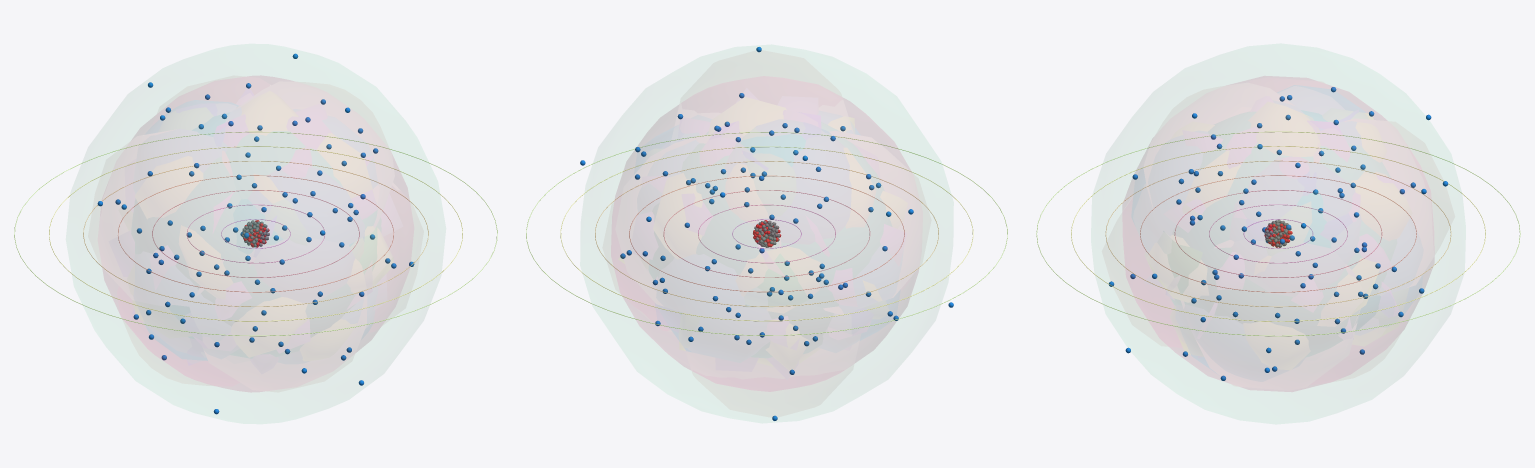
3 views of the same model, side by side, from view 1: azimuth 30°, elevation 25°; view 2: azimuth 150°, elevation 25°; view 3: azimuth 270°, elevation 25° (orthographic).
Visible parts, largest first — view 1: Orbital_5s_0, Nivel_n7, Nivel_n6, Nivel_n5, Nivel_n4, Nivel_n3; view 2: Orbital_5s_0, Nivel_n7, Nivel_n6, Nivel_n5, Nivel_n4, Nivel_n3; view 3: Orbital_5s_0, Nivel_n7, Nivel_n6, Nivel_n5, Nivel_n4, Nivel_n3.
Part boxes in pixels (<box>): Orbital_5s_0: <box>103,76,413,391</box>; Nivel_n7: <box>14,131,497,336</box>; Nivel_n6: <box>49,146,462,321</box>; Nivel_n5: <box>83,161,428,306</box>; Nivel_n4: <box>118,175,393,292</box>; Nivel_n3: <box>152,190,359,277</box>; Orbital_5s_0: <box>611,89,918,369</box>; Nivel_n7: <box>526,132,1007,335</box>; Nivel_n6: <box>560,146,973,321</box>; Nivel_n5: <box>595,161,938,306</box>; Nivel_n4: <box>629,175,904,292</box>; Nivel_n3: <box>663,190,870,277</box>; Orbital_5s_0: <box>1123,76,1433,391</box>; Nivel_n7: <box>1036,131,1520,336</box>; Nivel_n6: <box>1071,146,1485,321</box>; Nivel_n5: <box>1105,160,1451,307</box>; Nivel_n4: <box>1140,175,1416,292</box>; Nivel_n3: <box>1174,190,1382,277</box>.
Size of the model in its own units: 2.1 by 1.92 by 2.1.
